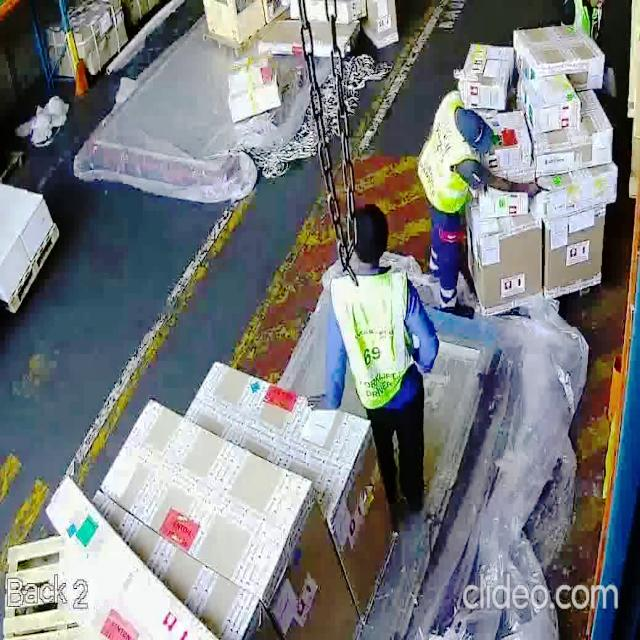Box: (474, 223, 539, 315), (539, 218, 605, 293), (516, 26, 606, 79), (225, 56, 286, 119), (535, 126, 617, 165), (524, 78, 582, 128), (462, 42, 507, 104), (537, 178, 625, 209)
